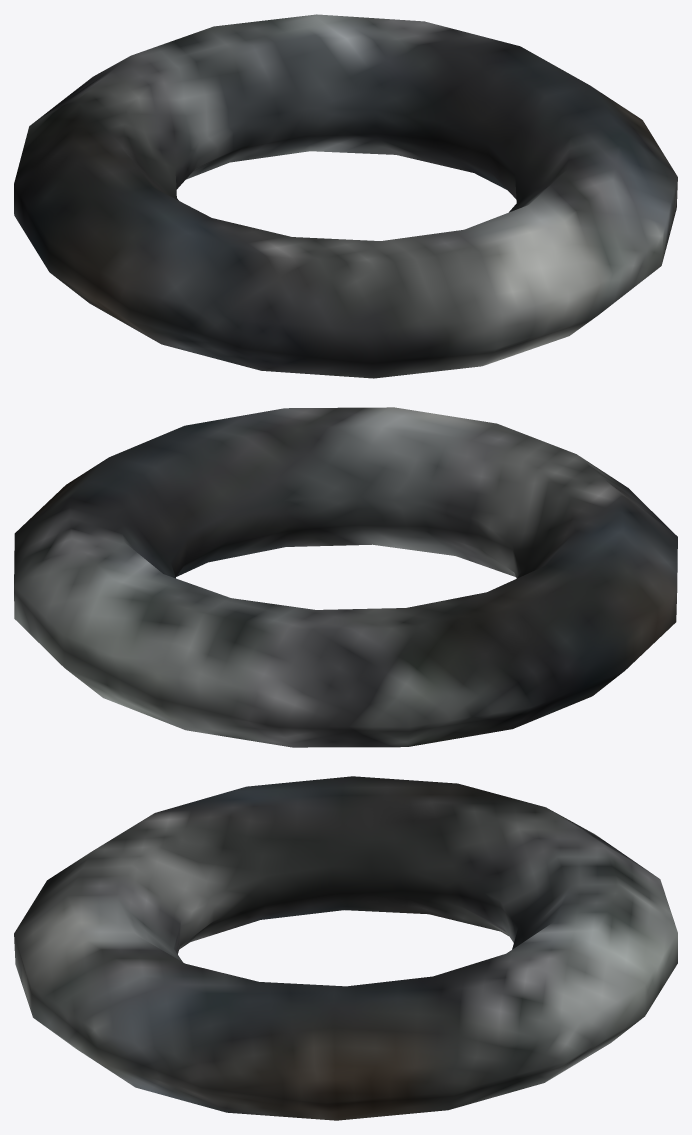
The model's file is prop_higgins_part4.glb.
The picture shows the model from 3 angles, top to bottom: view 1: azimuth 30°, elevation 25°; view 2: azimuth 150°, elevation 25°; view 3: azimuth 270°, elevation 25°; orthographic projection. The views are drawn at different scales.
Bounding box in the file's own units: 25.73 × 5.41 × 26.31.
1 material, 1 textured.
